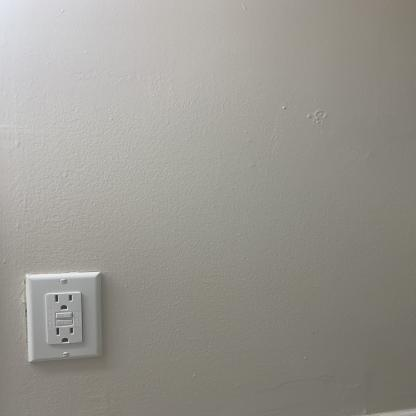OUTLET: (25, 272, 102, 361)
